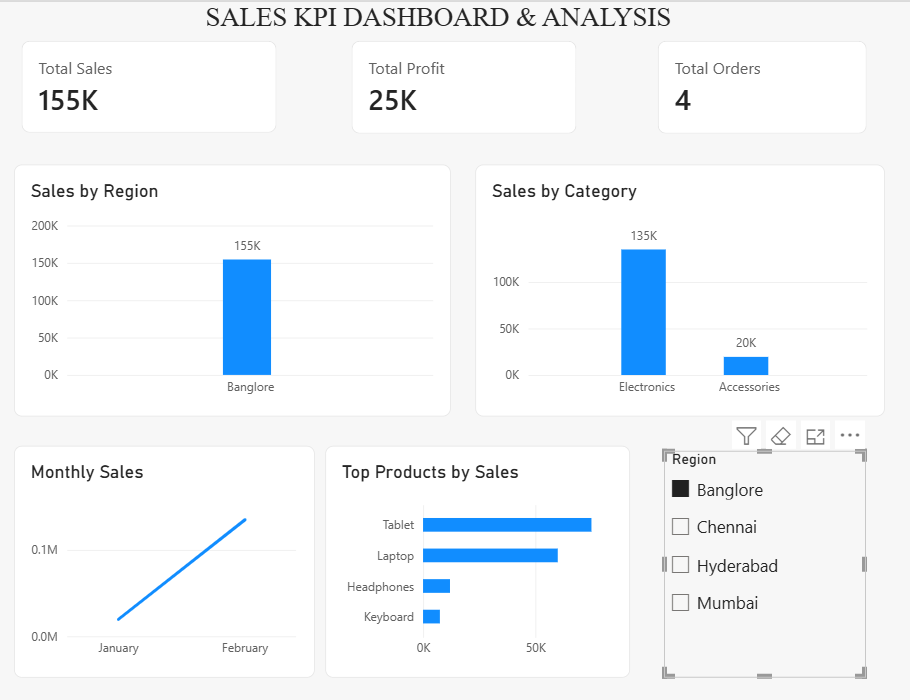

What the dashboard file says about the page in this screenshot:
{"tool":"powerbi","page":{"name":"Page 1","canvas":[1920,1080],"ordinal":0},"visuals":[{"type":"textbox","box":[300,870,280,210],"z":0},{"type":"textbox","box":[238.9,0,631.1,38.9],"z":1000},{"type":"cardVisual","title":"Total Sales","fields":{"Data":["Sum(Sheet1.Sales)"]},"box":[137.7,39.2,255.2,92.9],"z":2000},{"type":"clusteredColumnChart","title":"Sales by Region","fields":{"Category":["Sheet1.Region"],"Y":["Sum(Sheet1.Sales)"]},"box":[130,163.1,436.7,252.2],"z":3000},{"type":"clusteredColumnChart","title":"Sales by Category","fields":{"Category":["Sheet1.Category"],"Y":["Sum(Sheet1.Sales)"]},"box":[591.5,163.1,409.2,252.3],"z":4000},{"type":"lineChart","title":"Monthly Sales","fields":{"Category":["Sheet1.Order_Date.Variation.Date Hierarchy.Month"],"Y":["Sum(Sheet1.Sales)"]},"box":[130,443.8,300.8,232.3],"z":5000},{"type":"slicer","fields":{"Values":["Sheet1.Region"]},"box":[780,449.2,203.1,226.9],"z":6000},{"type":"clusteredBarChart","title":"Top  Products by Sales","fields":{"Category":["Sheet1.Product"],"Y":["Sum(Sheet1.Sales)"]},"box":[441.5,443.8,304.6,232.3],"z":7000},{"type":"cardVisual","box":[1723,39,197,225],"z":8000},{"type":"cardVisual","fields":{"Data":["Sum(Sheet1.Profit)"]},"box":[466.9,38.5,225.4,93.1],"z":9000},{"type":"cardVisual","fields":{"Data":["CountNonNull(Sheet1.Order_ID)"]},"box":[773.8,38.5,209.2,93.1],"z":9001}]}

Visuals, with their boxes on the page's 1920x1080 design canvas (x1, y1, x2, y2). These are canvas units, not pixel positions in the 910x700 screenshot, which may show the page scaled, cropped or inside an application window:
textbox: bbox(300, 870, 580, 1080)
textbox: bbox(239, 0, 870, 39)
"Total Sales" cardVisual: bbox(138, 39, 393, 132)
"Sales by Region" clusteredColumnChart: bbox(130, 163, 567, 415)
"Sales by Category" clusteredColumnChart: bbox(592, 163, 1001, 415)
"Monthly Sales" lineChart: bbox(130, 444, 431, 676)
slicer - Sheet1.Region: bbox(780, 449, 983, 676)
"Top  Products by Sales" clusteredBarChart: bbox(442, 444, 746, 676)
cardVisual: bbox(1723, 39, 1920, 264)
cardVisual - Sum(Sheet1.Profit): bbox(467, 38, 692, 132)
cardVisual - CountNonNull(Sheet1.Order_ID): bbox(774, 38, 983, 132)
